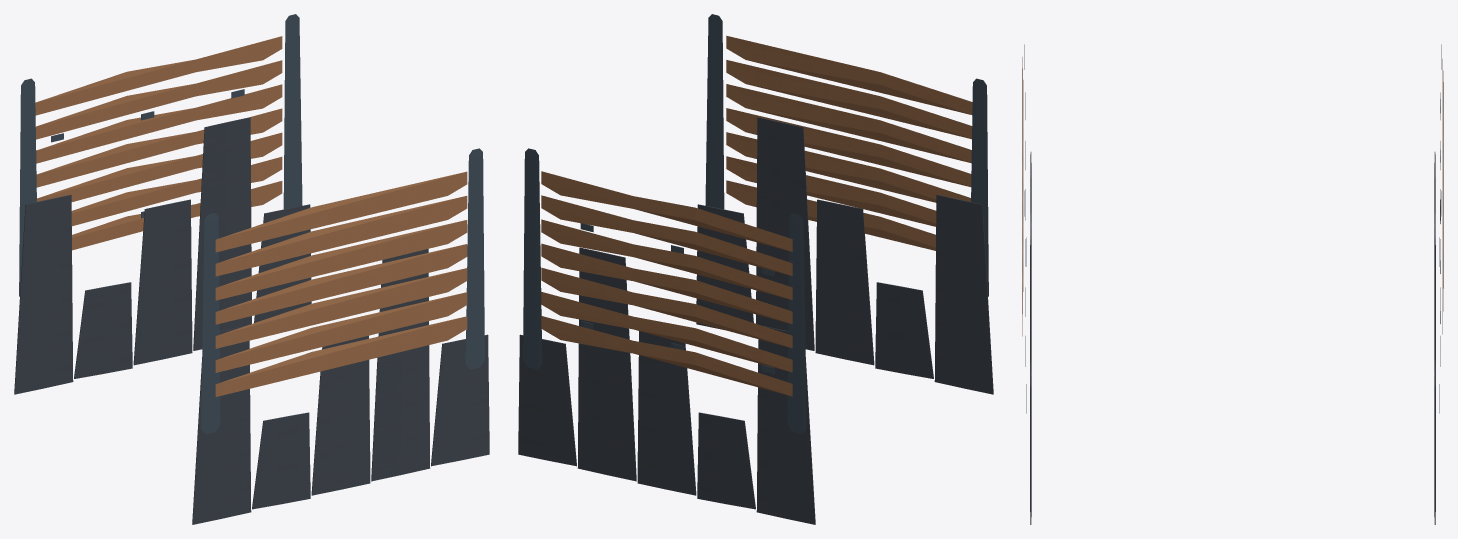
Rendered from emberline-heatshield-tower-0.glb.
3 views of the same model, side by side, from view 1: azimuth 30°, elevation 25°; view 2: azimuth 150°, elevation 25°; view 3: azimuth 270°, elevation 25° (orthographic). The views are drawn at different scales.
Visible parts, largest first — view 1: emberline-heatshield-tower_LOD0; view 2: emberline-heatshield-tower_LOD0; view 3: emberline-heatshield-tower_LOD0.
Part boxes in pixels (x1,y1,x2,y2): emberline-heatshield-tower_LOD0: [14, 14, 489, 524]; emberline-heatshield-tower_LOD0: [518, 14, 993, 524]; emberline-heatshield-tower_LOD0: [1022, 44, 1443, 524].
Bounding box in the file's own units: 0.9218 × 0.9238 × 0.997.
3 materials, 3 textured.
